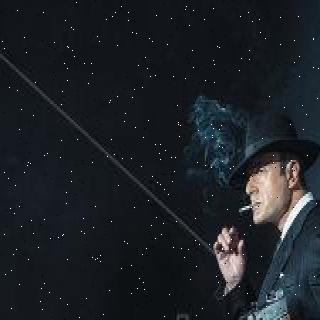smoke: (190, 94, 244, 180)
